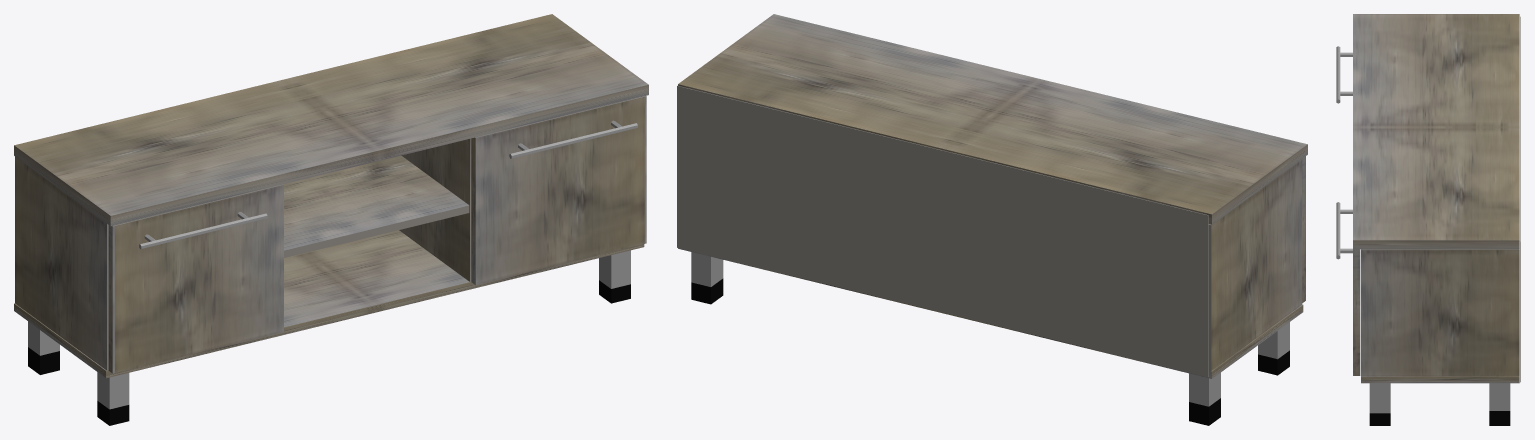
The model's file is tvStand.obj.
3 views of the same model, side by side, from view 1: azimuth 30°, elevation 25°; view 2: azimuth 150°, elevation 25°; view 3: azimuth 270°, elevation 25° (orthographic). The views are drawn at different scales.
Parts seen in each view (by area): view 1: Tv_Unit_Cube.007, Leftdoor_Cube.011, Right_door_Cube.010; view 2: Tv_Unit_Cube.007, Leftdoor_Cube.011; view 3: Tv_Unit_Cube.007, Right_door_Cube.010, Leftdoor_Cube.011.
Part boxes in pixels (bbox=[...]): Tv_Unit_Cube.007: bbox=[14, 14, 648, 425]; Leftdoor_Cube.011: bbox=[108, 184, 283, 373]; Right_door_Cube.010: bbox=[471, 96, 646, 284]; Tv_Unit_Cube.007: bbox=[677, 14, 1307, 425]; Leftdoor_Cube.011: bbox=[1302, 156, 1305, 302]; Tv_Unit_Cube.007: bbox=[1353, 14, 1520, 425]; Right_door_Cube.010: bbox=[1336, 202, 1360, 375]; Leftdoor_Cube.011: bbox=[1336, 46, 1352, 103].
Size of the model in its own units: 135 by 52.55 by 46.51.
